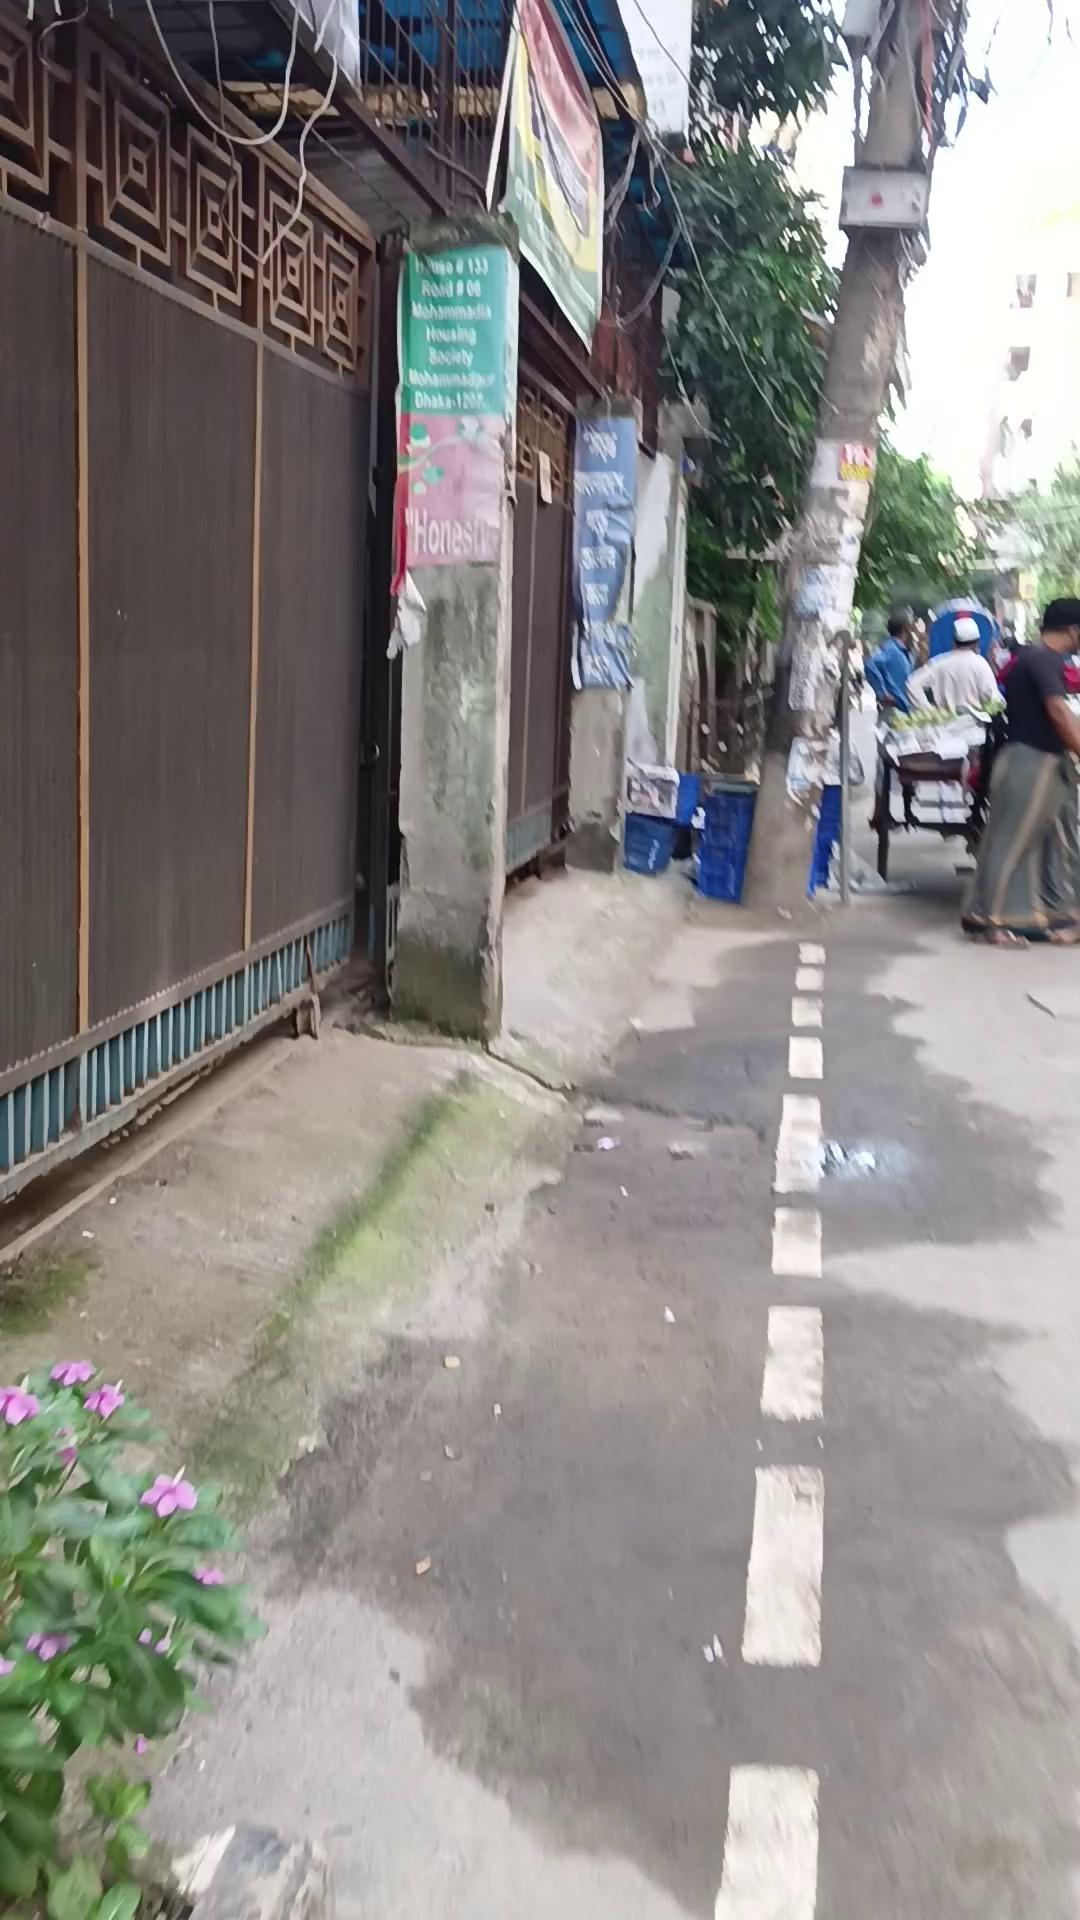Broken-road: (1, 897, 353, 1255)
Cat: (691, 775, 760, 903), (621, 810, 676, 876)
Dog: (833, 634, 855, 905)
Fence: (866, 700, 994, 884)
Light-pole: (647, 125, 844, 905)
